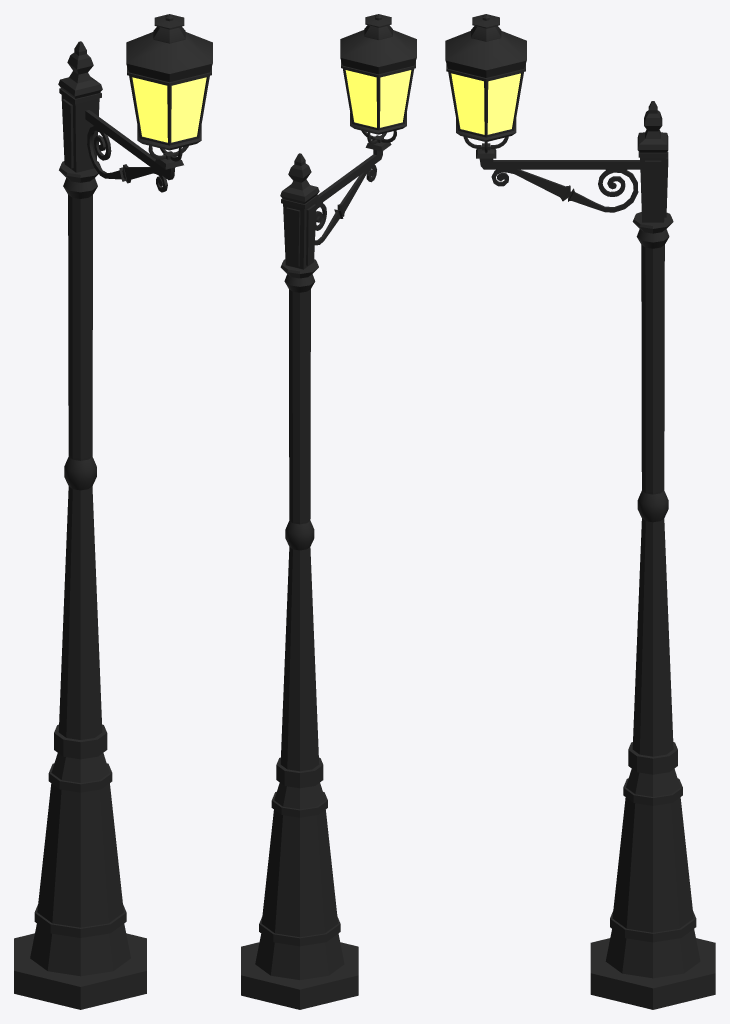
Rendered from FarolaDe1.fbx.
3 views of the same model, side by side, from view 1: azimuth 30°, elevation 25°; view 2: azimuth 150°, elevation 25°; view 3: azimuth 270°, elevation 25° (orthographic). The views are drawn at different scales.
Parts seen in each view (by area): view 1: FarolaDe1; view 2: FarolaDe1; view 3: FarolaDe1.
Boxes of the visible parts, x1,y1,x2,y2 form: FarolaDe1: [14, 14, 212, 1009]; FarolaDe1: [241, 14, 416, 1009]; FarolaDe1: [445, 14, 715, 1009].
Bounding box in the file's own units: 44.52 × 329 × 83.44.
